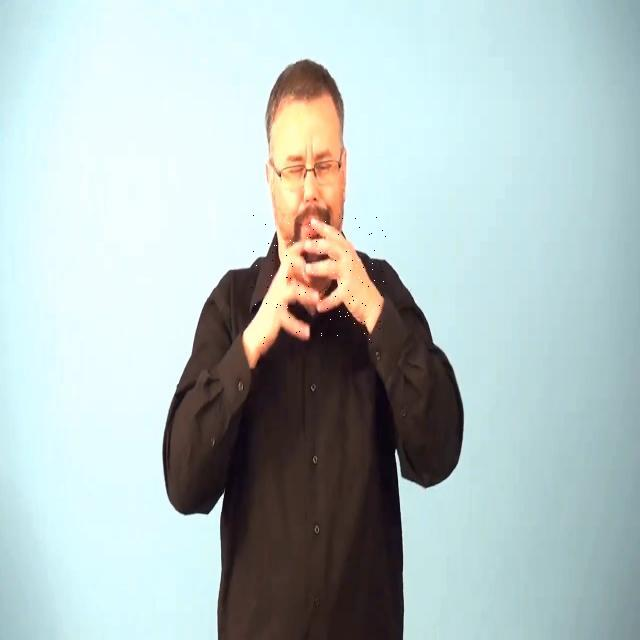juicy: (248, 214, 386, 344)
